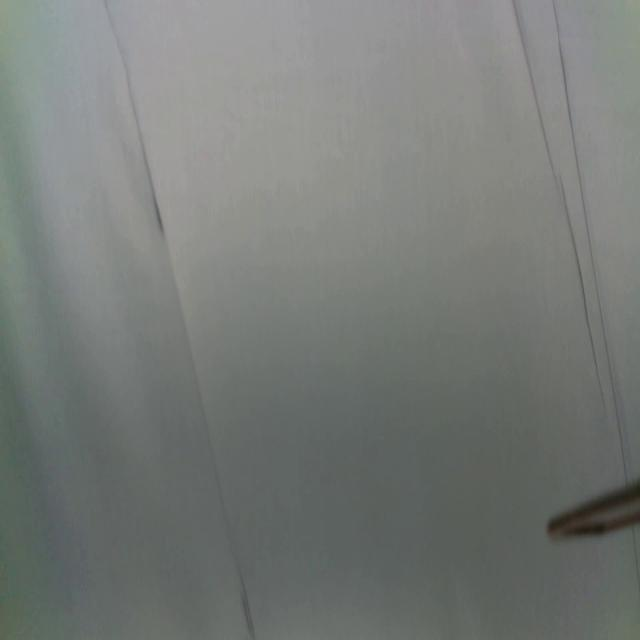crease: (105, 0, 256, 636), (510, 0, 603, 409), (552, 0, 630, 482)
